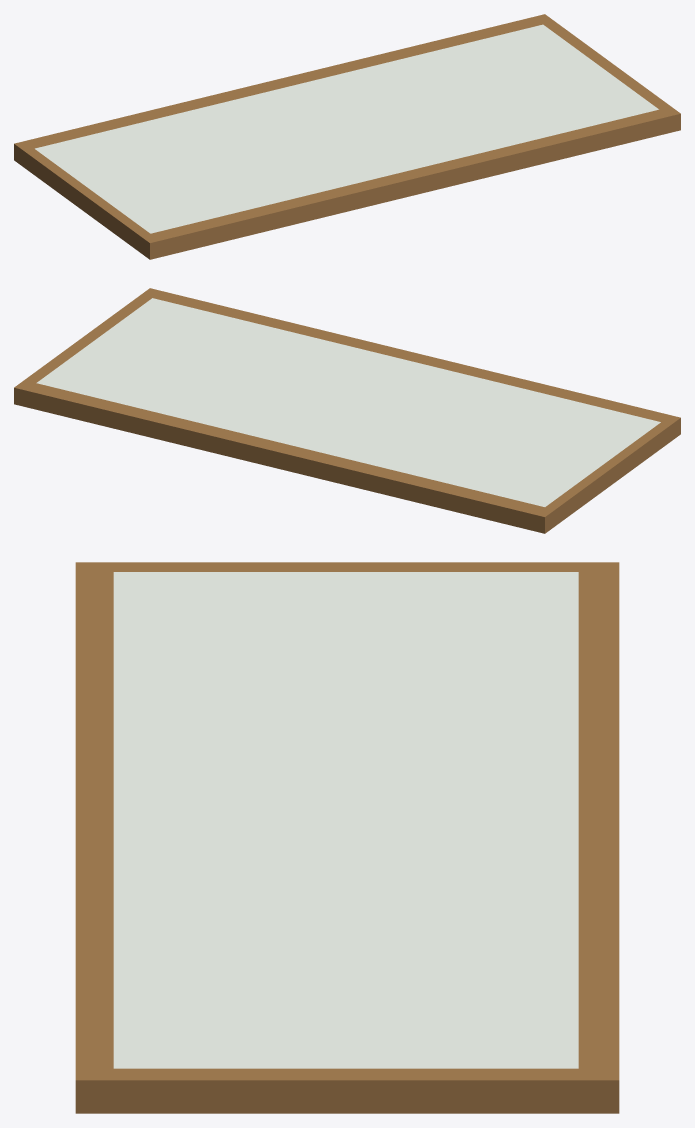
Rendered from tatami.fbx.
3 renders of one model, top to bottom at view 1: azimuth 30°, elevation 25°; view 2: azimuth 150°, elevation 25°; view 3: azimuth 270°, elevation 25°, orthographic. The views are drawn at different scales.
Parts seen in each view (by area): view 1: Cube.002; view 2: Cube.002; view 3: Cube.002.
Boxes of the visible parts, bbox=[...] form: Cube.002: bbox=[14, 14, 680, 259]; Cube.002: bbox=[14, 288, 680, 533]; Cube.002: bbox=[75, 562, 619, 1113].
Bounding box in the file's own units: 293 × 8.79 × 130.
